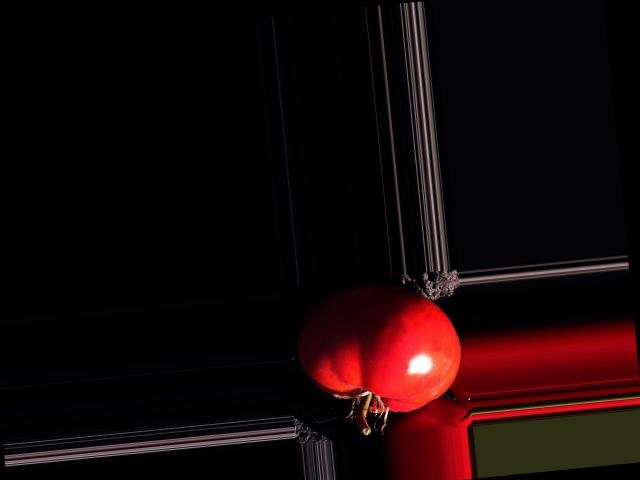tomato: (291, 274, 466, 420)
